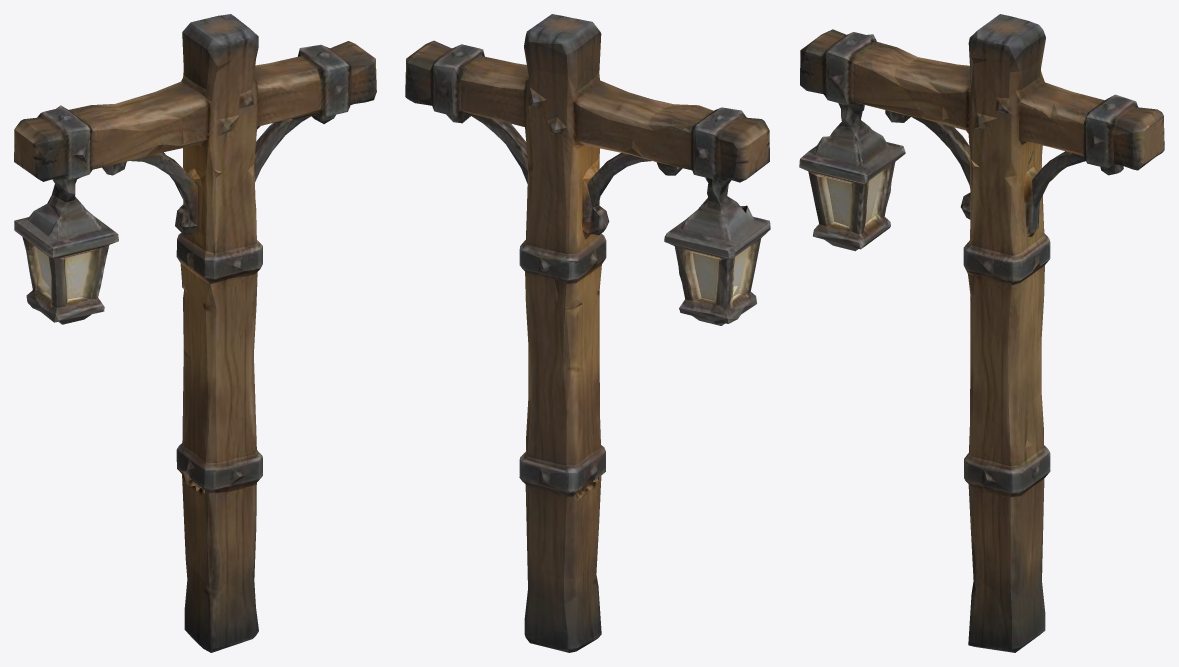
The model's file is meshy_lamp_post_timber_cross_lod0.glb.
3 renders of one model, left to right at view 1: azimuth 30°, elevation 25°; view 2: azimuth 150°, elevation 25°; view 3: azimuth 330°, elevation 25°, orthographic.
Parts seen in each view (by area): view 1: meshy_lamp_post_timber_cross; view 2: meshy_lamp_post_timber_cross; view 3: meshy_lamp_post_timber_cross.
Part boxes in pixels (x1,y1,x2,y2): meshy_lamp_post_timber_cross: (14,14,376,652); meshy_lamp_post_timber_cross: (405,14,770,652); meshy_lamp_post_timber_cross: (799,14,1164,652).
Size of the model in its own units: 2.22 by 3.8 by 0.4529.
1 material, 1 textured.
